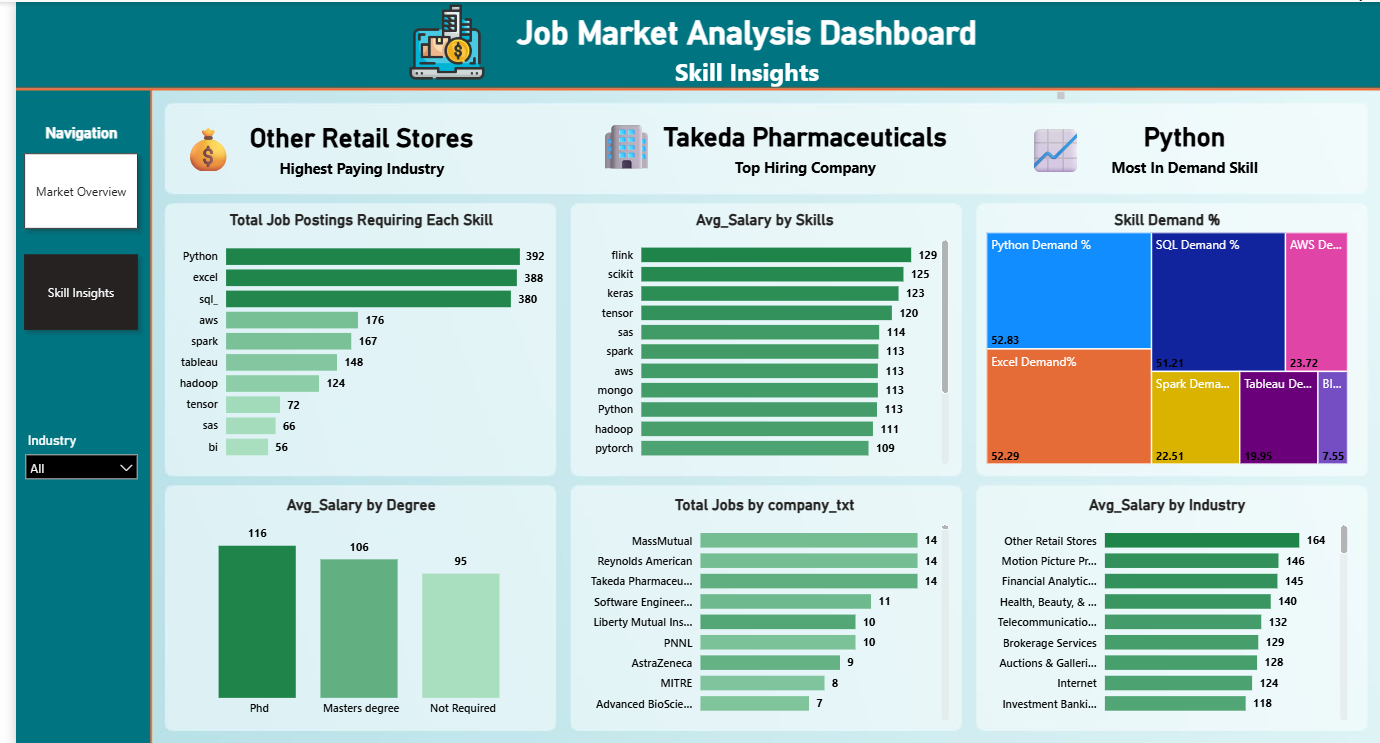

Layout of this report page (visuals, bound fields, positions):
{"tool":"powerbi","page":{"name":"Skill Insights","canvas":[1500,820],"ordinal":1},"visuals":[{"type":"barChart","title":"Total Job Postings Requiring Each Skill","fields":{"Category":["cleaned_Market.Skills"],"Y":["Sum(cleaned_Market.Value)"]},"box":[173.1,229.4,413,283.7],"z":0},{"type":"barChart","fields":{"Category":["cleaned_Market.Skills"],"Y":["cleaned_Market.Avg_Salary"]},"box":[615.3,229.4,415.1,283.7],"z":1000},{"type":"treemap","title":"Skill Demand %","fields":{"Values":["cleaned_Market.Python Demand %","cleaned_Market.SQL Demand %","cleaned_Market.Excel Demand%","cleaned_Market.Tableau Demand %","cleaned_Market.AWS Demand %","cleaned_Market.BI Demand %","cleaned_Market.Spark Demand %"]},"box":[1061.6,229.4,406.7,283.7],"z":2000},{"type":"columnChart","fields":{"Y":["cleaned_Market.Avg_Salary"],"Category":["cleaned_Market.Degree"]},"box":[173.1,542.3,413,252.4],"z":3000},{"type":"barChart","fields":{"Category":["cleaned_Market.company_txt"],"Y":["cleaned_Market.Total Jobs"]},"box":[615.3,542.3,415.1,252.4],"z":4000},{"type":"barChart","fields":{"Y":["cleaned_Market.Avg_Salary"],"Category":["cleaned_Market.Industry"]},"box":[1061.6,542.3,406.7,252.4],"z":5000},{"type":"slicer","fields":{"Values":["cleaned_Market.Industry"]},"box":[0,468.3,143.7,91.3],"z":6000},{"type":"pageNavigator","title":"Navigation","box":[0,133.5,143.9,237.8],"z":7000},{"type":"textbox","title":"Job Market Analysis Dashboard","box":[449.7,11.8,708.4,99.8],"z":8000},{"type":"card","fields":{"Values":["cleaned_Market.Top Hiring Company"]},"box":[706.7,111.6,322.9,93],"z":9000},{"type":"card","fields":{"Values":["cleaned_Market.Most In Demand Skill"]},"box":[1141.2,111.6,285.7,93],"z":10000},{"type":"card","fields":{"Values":["cleaned_Market.Highest Paying Industry"]},"box":[228.2,113.3,304.3,91.3],"z":11000},{"type":"textbox","box":[172.5,121.7,87.9,74.4],"z":12000},{"type":"textbox","box":[634,120,72.7,79.5],"z":13000},{"type":"textbox","box":[1104.1,123.4,72.7,74.4],"z":14000},{"type":"image","box":[399,0,150.5,87.9],"z":15000}]}

Visuals, with their boxes in screenshot pixels (x1, y1, x2, y2), scaled from the page's 1500x820 canvas onto the 1380x743 screenshot:
"Total Job Postings Requiring Each Skill" barChart: 159 208 539 465
barChart - cleaned_Market.Skills x cleaned_Market.Avg_Salary: 566 208 948 465
"Skill Demand %" treemap: 977 208 1351 465
columnChart - cleaned_Market.Avg_Salary x cleaned_Market.Degree: 159 491 539 720
barChart - cleaned_Market.company_txt x cleaned_Market.Total Jobs: 566 491 948 720
barChart - cleaned_Market.Avg_Salary x cleaned_Market.Industry: 977 491 1351 720
slicer - cleaned_Market.Industry: 0 424 132 507
"Navigation" pageNavigator: 0 121 132 336
"Job Market Analysis Dashboard" textbox: 414 11 1065 101
card - cleaned_Market.Top Hiring Company: 650 101 947 185
card - cleaned_Market.Most In Demand Skill: 1050 101 1313 185
card - cleaned_Market.Highest Paying Industry: 210 103 490 185
textbox: 159 110 240 178
textbox: 583 109 650 181
textbox: 1016 112 1083 179
image: 367 0 506 80
